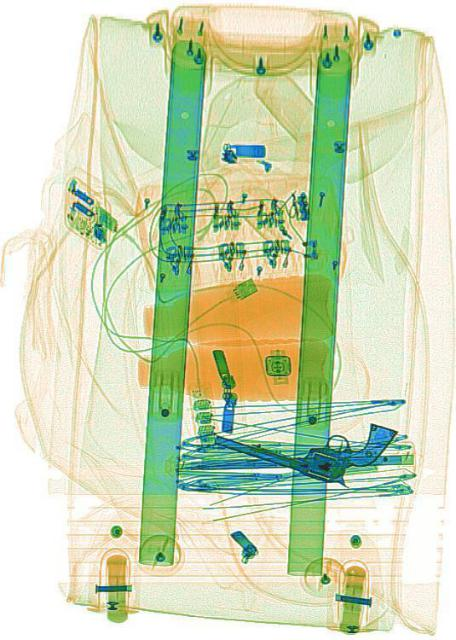Gun: (210, 376, 395, 498)
